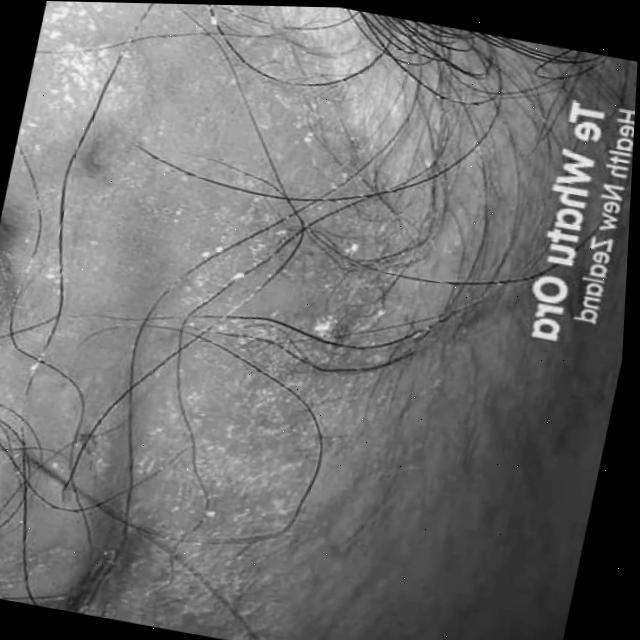Eczema: (0, 37, 403, 640)
